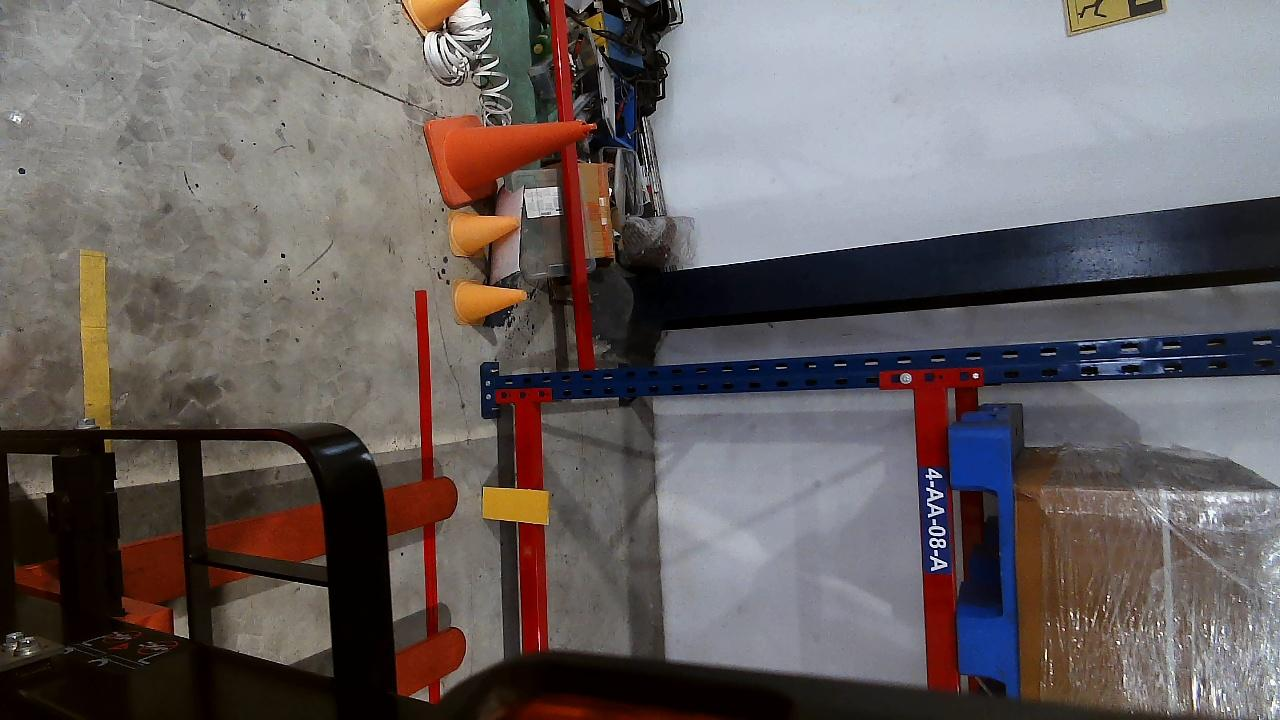h_rack: (910, 384, 964, 693), (512, 401, 545, 651)
orange_strip: (482, 486, 550, 523)
red_line: (413, 290, 441, 638)
small_pallet: (945, 420, 1022, 695)
yellow_line: (77, 251, 111, 428)
